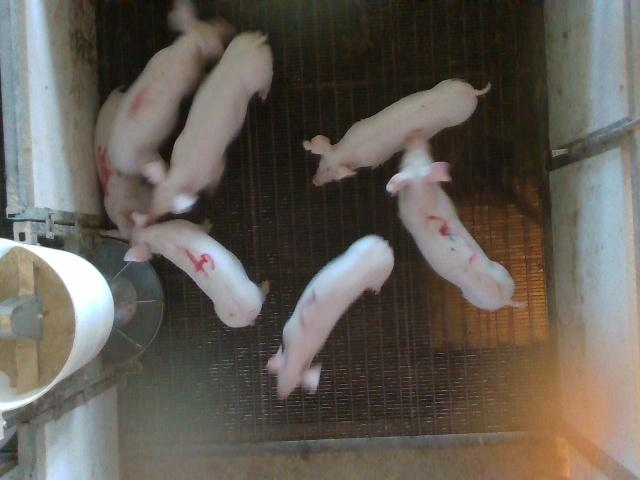pig-1: (109, 0, 235, 174)
pig-2: (266, 235, 392, 398)
pig-3: (386, 132, 525, 311)
pig-4: (125, 214, 269, 327)
pig-5: (95, 89, 152, 239)
